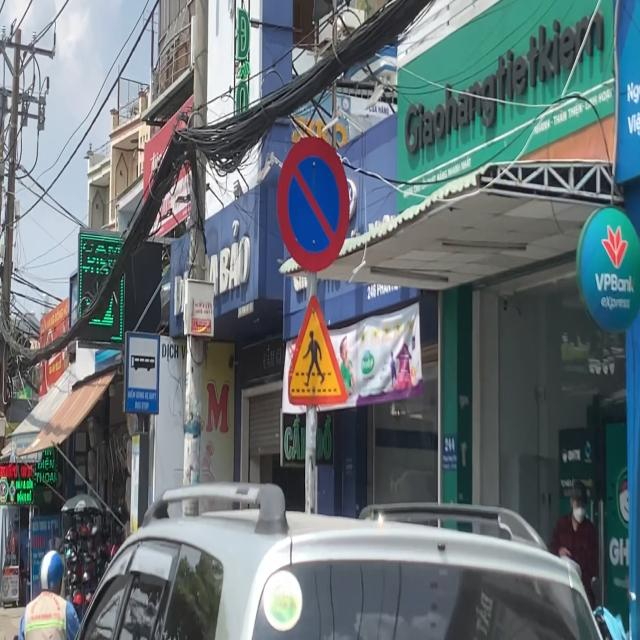Ben xe buyt: (124, 329, 160, 415)
Cam do: (276, 136, 350, 272)
Nguoi di bo cat ngang: (285, 293, 348, 405)
